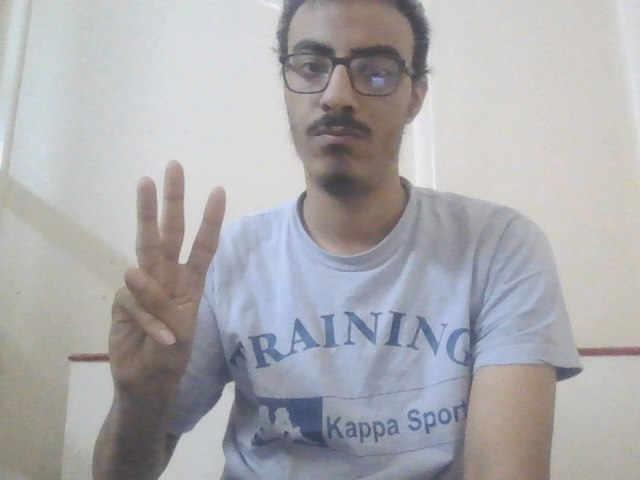Water: (104, 155, 233, 404)
